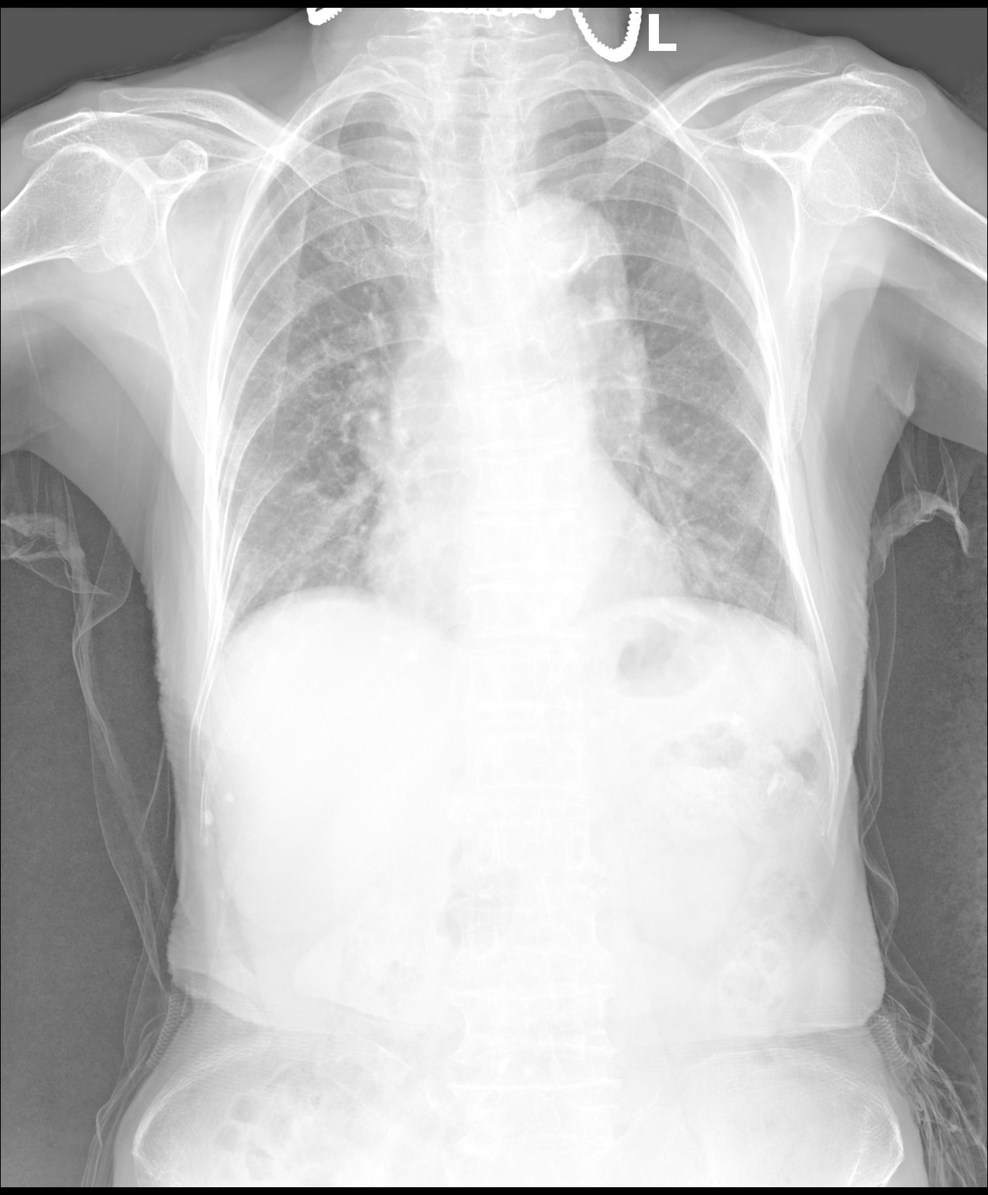Aortic enlargement: (488, 188, 624, 363)
Cardiomegaly: (359, 520, 695, 618)
